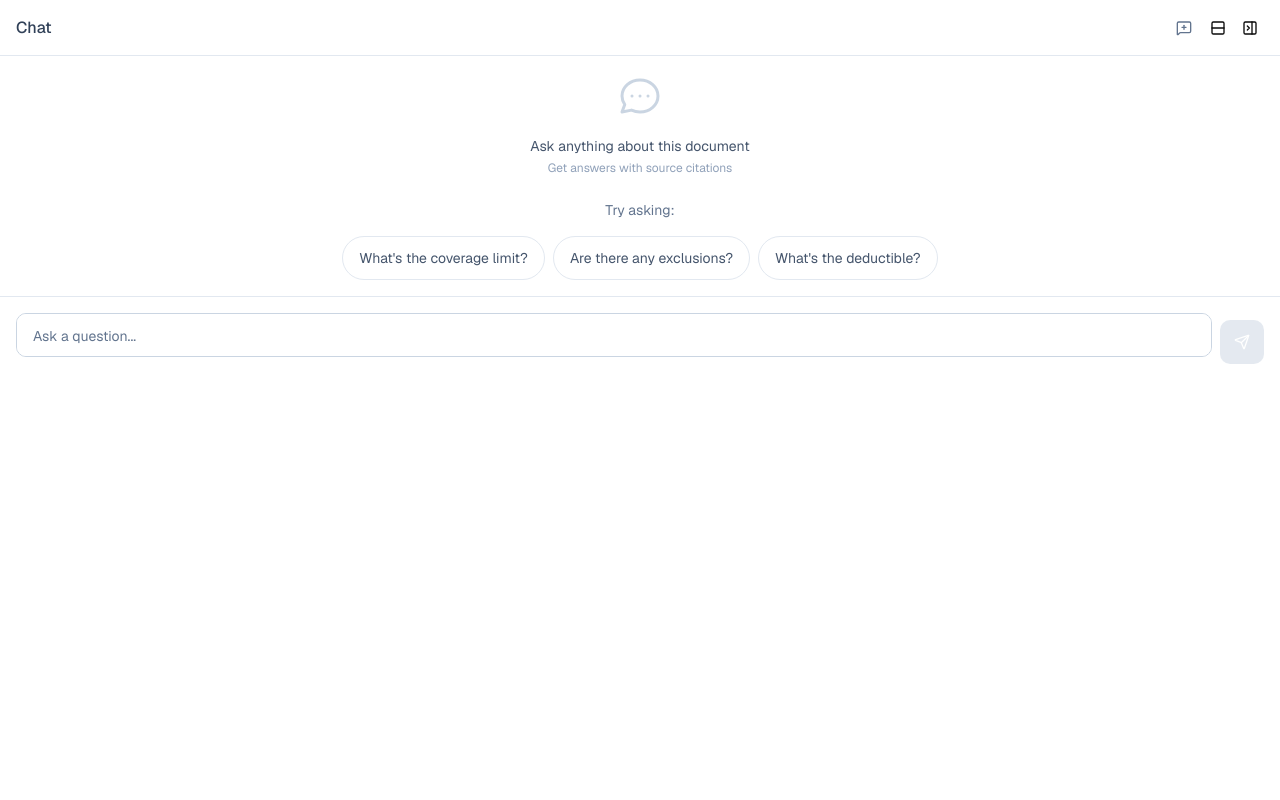
Test: ChatPanel › AC-5.6.8: New Chat confirmation dialog › shows confirmation dialog when New Chat button is clicked
What coordinates should you click on to do the following:
click the button named "start a new conversation"
I would click on:
 (1184, 28)
Its box is [1168,12,1200,44].
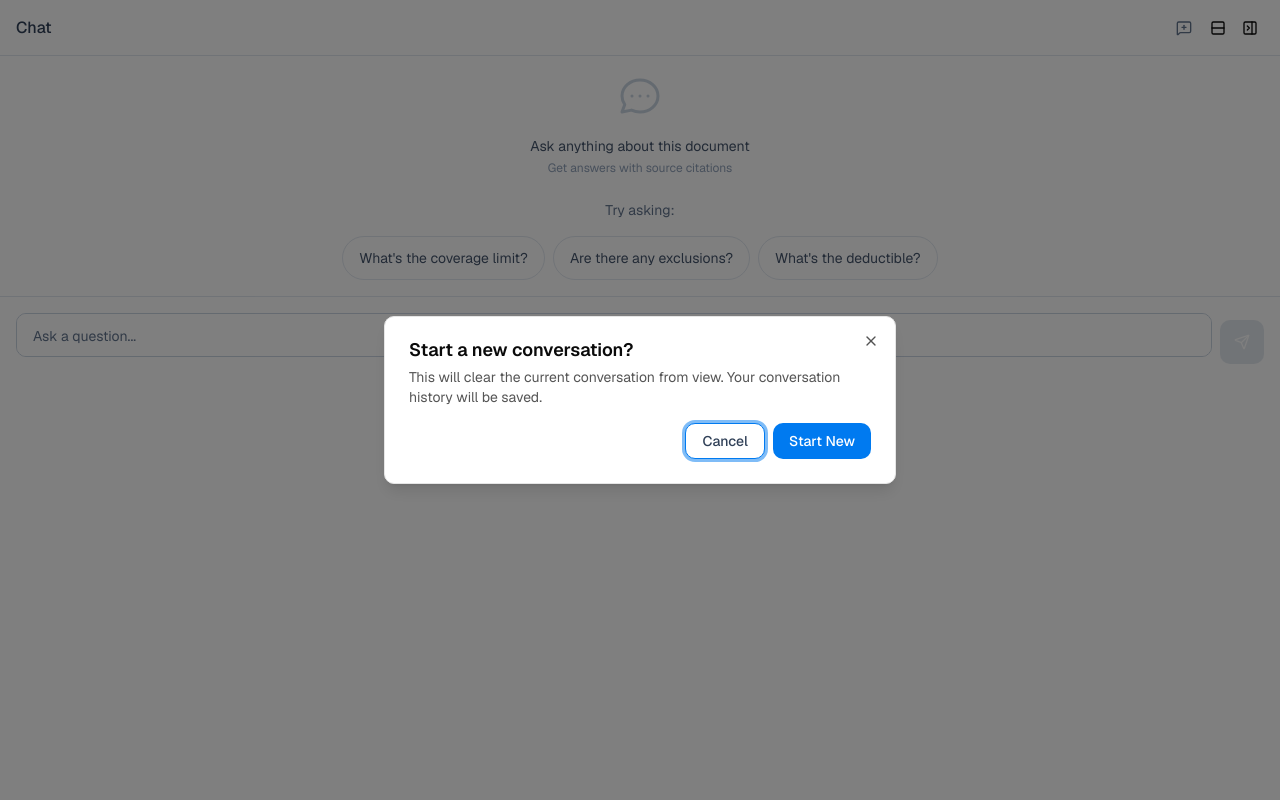
expect the heading "Start a new conversation?" is shown: met, box [409,338,634,361]
expect the text "This will clear the current conversation" is shown: met, box [409,368,840,406]
